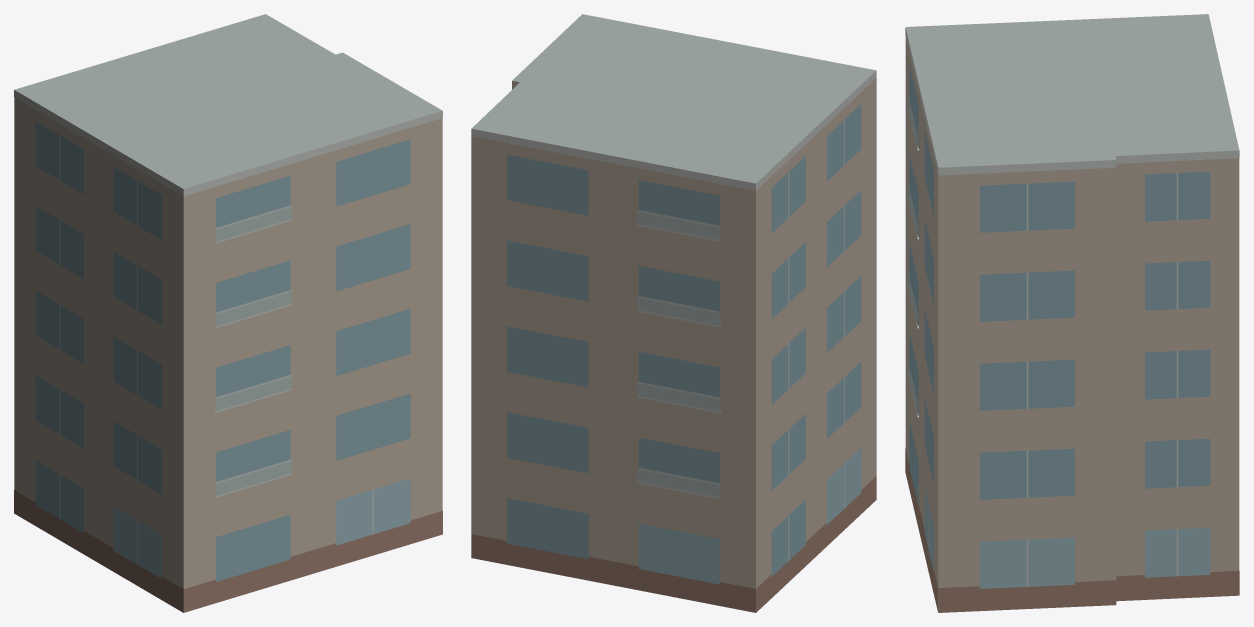
Rendered from survey-upis-32633522.glb.
3 views of the same model, side by side, from view 1: azimuth 30°, elevation 25°; view 2: azimuth 150°, elevation 25°; view 3: azimuth 270°, elevation 25° (orthographic). The views are drawn at different scales.
Parts seen in each view (by area): view 1: survey-upis-32633522.tmp; view 2: survey-upis-32633522.tmp; view 3: survey-upis-32633522.tmp.
Boxes of the visible parts, bbox=[...] form: survey-upis-32633522.tmp: bbox=[14, 14, 442, 612]; survey-upis-32633522.tmp: bbox=[471, 14, 876, 612]; survey-upis-32633522.tmp: bbox=[905, 14, 1239, 612].
Bounding box in the file's own units: 10.46 × 14.1 × 9.6.
